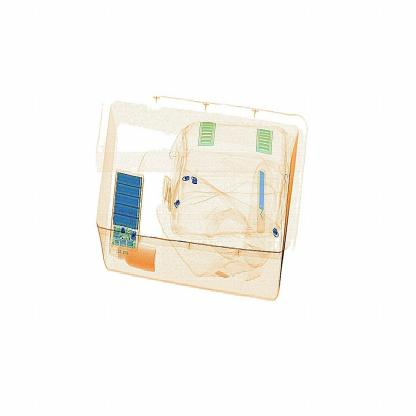pliers: (256, 158, 277, 238)
